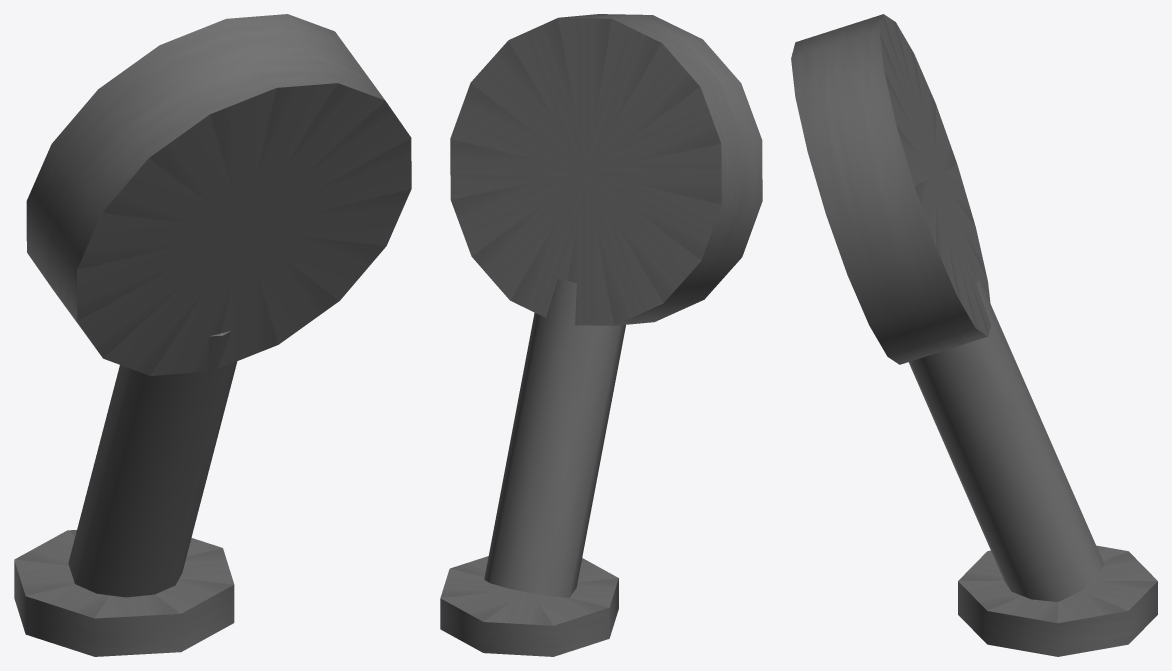
File: mastarmcurve_10x2_c1_down.obj
The picture shows the model from 3 angles, left to right: view 1: azimuth 30°, elevation 25°; view 2: azimuth 150°, elevation 25°; view 3: azimuth 270°, elevation 25°; orthographic projection. The views are drawn at different scales.
Visible parts, largest first — view 1: mastarm_10x2_c1_down; view 2: mastarm_10x2_c1_down; view 3: mastarm_10x2_c1_down.
Part boxes in pixels (x1,y1,x2,y2): mastarm_10x2_c1_down: (14,14,411,656); mastarm_10x2_c1_down: (440,14,762,656); mastarm_10x2_c1_down: (791,14,1157,656).
Bounding box in the file's own units: 0.6787 × 1.29 × 0.7342.
